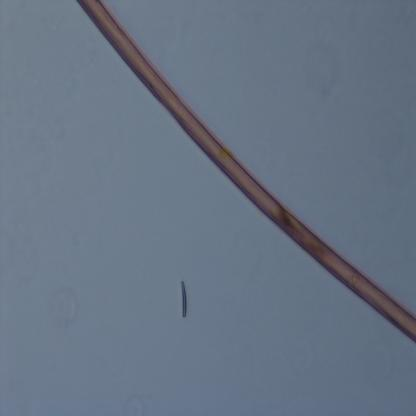Air bubble: (178, 280, 188, 321)
Background material: (48, 287, 79, 329)
Microfibre: (76, 0, 416, 341)
